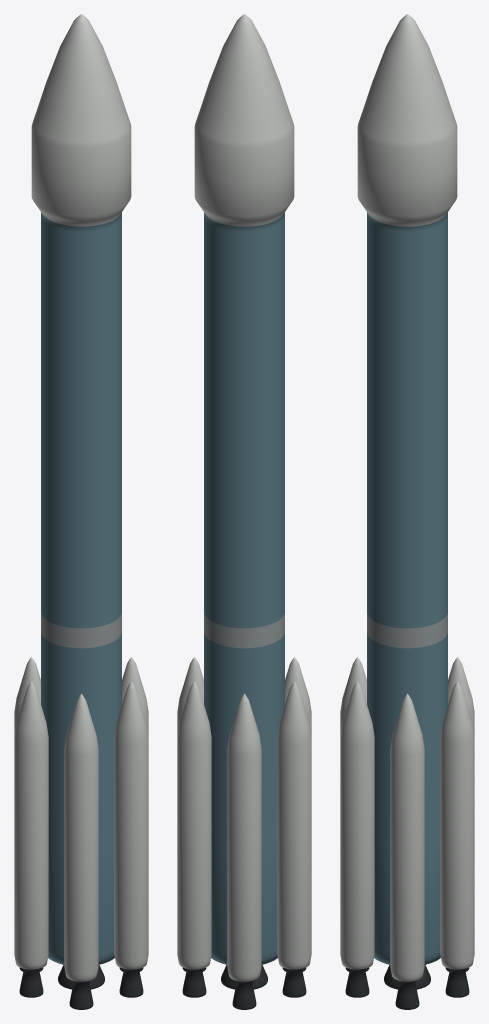
Rendered from A-NEW-20261027-SPACE_ROCKET-001_LOD1_R1.glb.
3 views of the same model, side by side, from view 1: azimuth 30°, elevation 25°; view 2: azimuth 150°, elevation 25°; view 3: azimuth 330°, elevation 25° (orthographic).
Visible parts, largest first — view 1: original launch rocket core and fairing, original static external booster 4, original static external booster 3, original static external booster 5, original static external booster 0, original static external booster 2; view 2: original launch rocket core and fairing, original static external booster 2, original static external booster 1, original static external booster 3, original static external booster 0, original static external booster 4; view 3: original launch rocket core and fairing, original static external booster 5, original static external booster 0, original static external booster 4, original static external booster 1, original static external booster 3.
Part boxes in pixels (<box>): original launch rocket core and fairing: <box>31,14,131,989</box>; original static external booster 4: <box>64,694,98,1009</box>; original static external booster 3: <box>14,682,48,997</box>; original static external booster 5: <box>114,682,148,997</box>; original static external booster 0: <box>119,657,148,971</box>; original static external booster 2: <box>14,657,43,971</box>; original launch rocket core and fairing: <box>194,14,294,989</box>; original static external booster 2: <box>227,694,261,1009</box>; original static external booster 1: <box>177,682,211,997</box>; original static external booster 3: <box>277,682,311,997</box>; original static external booster 0: <box>177,657,206,971</box>; original static external booster 4: <box>282,657,311,971</box>; original launch rocket core and fairing: <box>357,14,457,989</box>; original static external booster 5: <box>390,694,424,1009</box>; original static external booster 0: <box>440,682,474,997</box>; original static external booster 4: <box>340,682,374,997</box>; original static external booster 1: <box>445,657,474,971</box>; original static external booster 3: <box>340,657,369,971</box>.
Size of the model in its own units: 0.48 by 3.42 by 0.4304.
